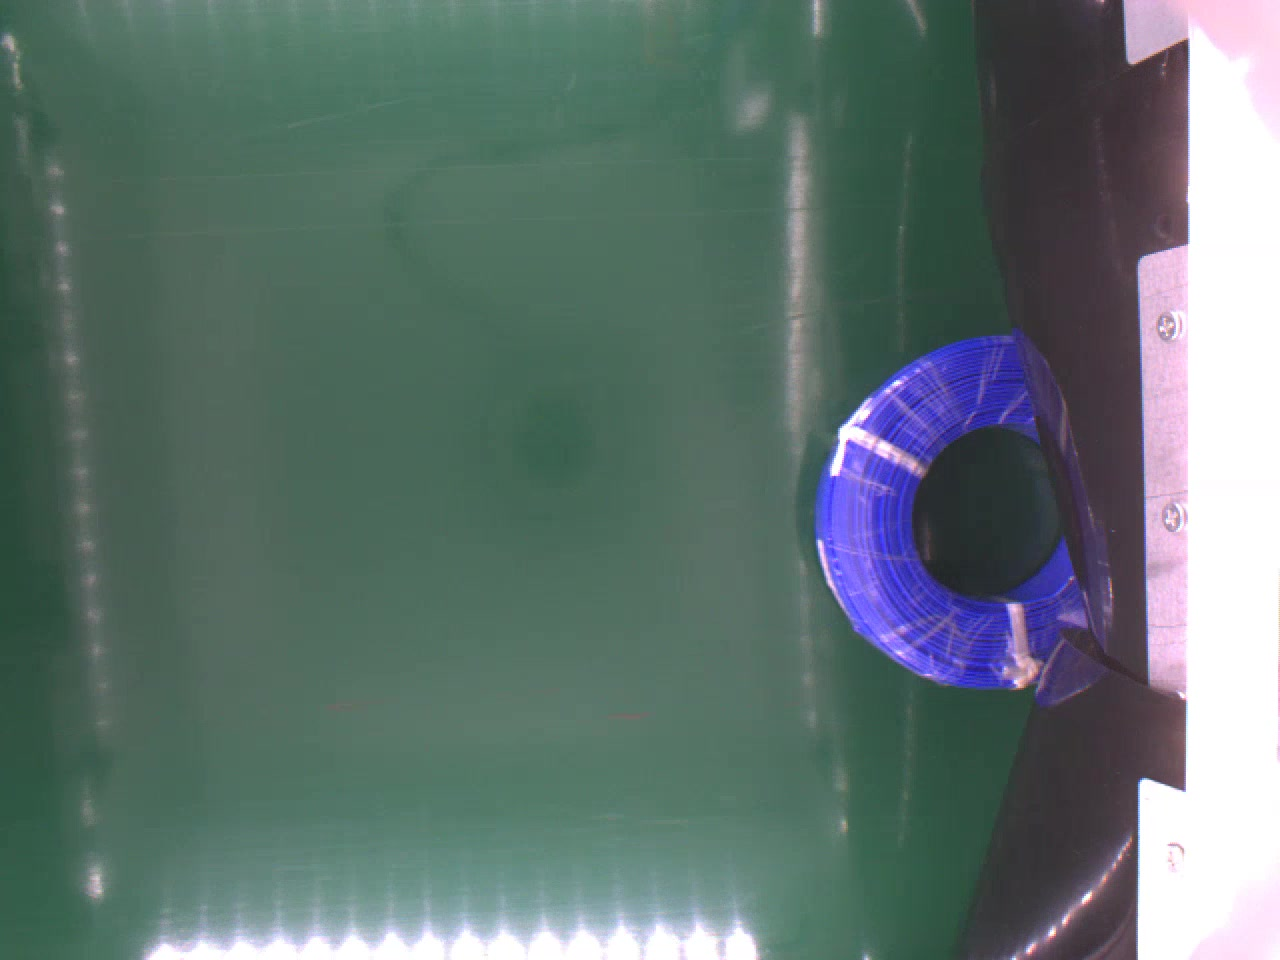blue: (806, 333, 1091, 693)
